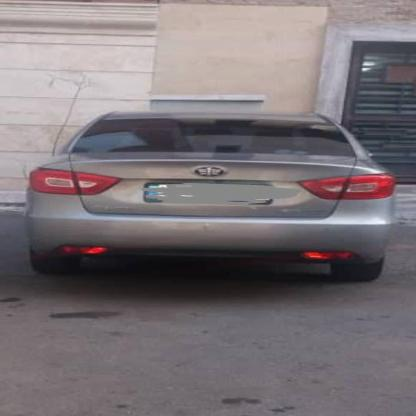Car: (0, 107, 410, 300)
